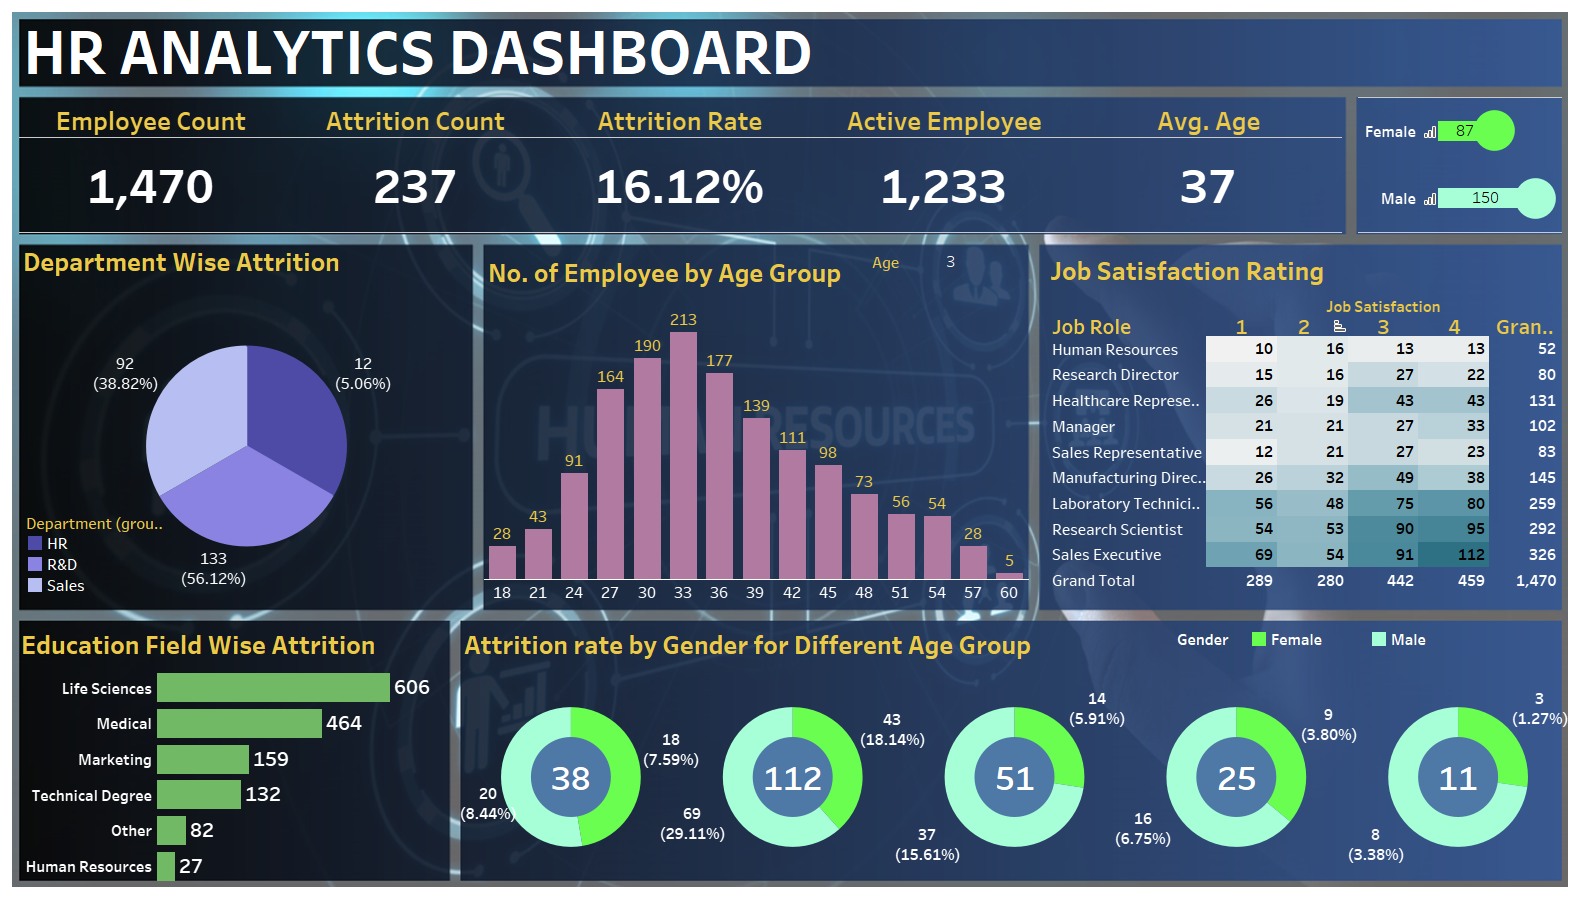

The dashboard page shown, as its layout file describes it:
{"tool":"tableau","page":{"name":"HR DATA ANALYTICS","canvas":[1580,900],"ordinal":0},"visuals":[{"type":"image","param":"C:/Users/MSI/Downloads/HR background.png","box":[8,8,1564,884]},{"type":"text","box":[20,17,1540,64]},{"type":"worksheet","title":"KPI","mark":"Automatic","box":[19,97,1323,136]},{"type":"worksheet","title":"Attrition By Gender","mark":"Automatic","rows":["Gender"],"cols":["Calculation_358317704932225024","Calculation_358317704932225024"],"box":[1358,97,204,136]},{"type":"worksheet","title":"Department Wise Attrition","mark":"Pie","box":[19,238,455,367]},{"type":"worksheet","title":"Job Satisfaction Rating","mark":"Square","rows":["Job Role"],"cols":["Job Satisfaction"],"box":[1046,247,515,346]},{"type":"worksheet","title":"No. of Employee by Age Group","mark":"Automatic","rows":["Employee Count"],"cols":["Age (bin)"],"box":[484,249,544,355]},{"type":"parameter","param":"[Parameters].[Parameter 1]","box":[872,251,147,23]},{"type":"legend","title":"Department Wise Attrition","param":"[federated.1n9lnt41o71zzq1bjv5eq1kg2xsx].[Department (group) 1]","box":[25,511,140,85]},{"type":"worksheet","title":"Education Field Wise Attrition","mark":"Automatic","rows":["Education Field"],"cols":["Calculation_358317704932225024"],"box":[17,621,431,263]},{"type":"worksheet","title":"Attrition rate by Gender for Different Age Group","mark":"Pie","rows":["Calculation_1441714890643116033","Calculation_1441714890643116033"],"cols":["CF_age band"],"box":[460,621,1109,263]},{"type":"legend","title":"Attrition rate by Gender for Different Age Group","param":"[federated.1n9lnt41o71zzq1bjv5eq1kg2xsx].[none:Gender:nk]","box":[1177,629,375,29]}]}

Visuals, with their boxes in screenshot pixels (x1, y1, x2, y2), scaled from the page's 1580x900 canvas onto the 1580x900 screenshot:
image: <bbox>8, 8, 1572, 892</bbox>
text: <bbox>20, 17, 1560, 81</bbox>
"KPI" worksheet: <bbox>19, 97, 1342, 233</bbox>
"Attrition By Gender" worksheet: <bbox>1358, 97, 1562, 233</bbox>
"Department Wise Attrition" worksheet (Pie marks): <bbox>19, 238, 474, 605</bbox>
"Job Satisfaction Rating" worksheet (Square marks): <bbox>1046, 247, 1561, 593</bbox>
"No. of Employee by Age Group" worksheet: <bbox>484, 249, 1028, 604</bbox>
parameter: <bbox>872, 251, 1019, 274</bbox>
"Department Wise Attrition" legend: <bbox>25, 511, 165, 596</bbox>
"Education Field Wise Attrition" worksheet: <bbox>17, 621, 448, 884</bbox>
"Attrition rate by Gender for Different Age Group" worksheet (Pie marks): <bbox>460, 621, 1569, 884</bbox>
"Attrition rate by Gender for Different Age Group" legend: <bbox>1177, 629, 1552, 658</bbox>
